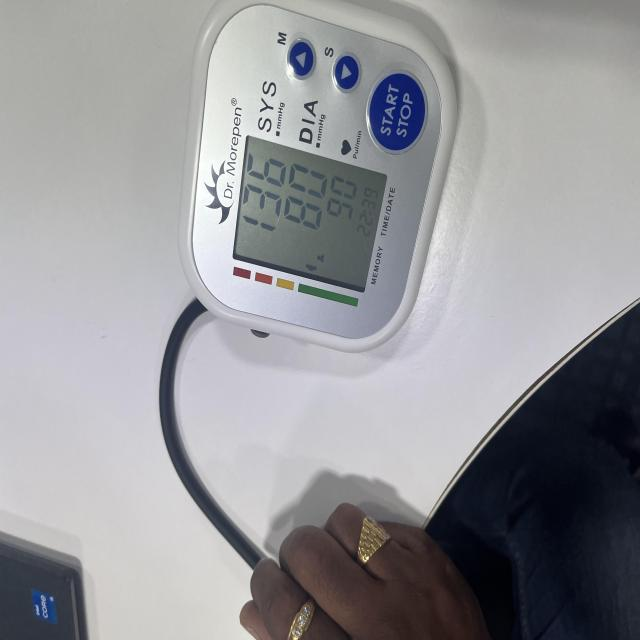bp: (179, 0, 458, 354)
